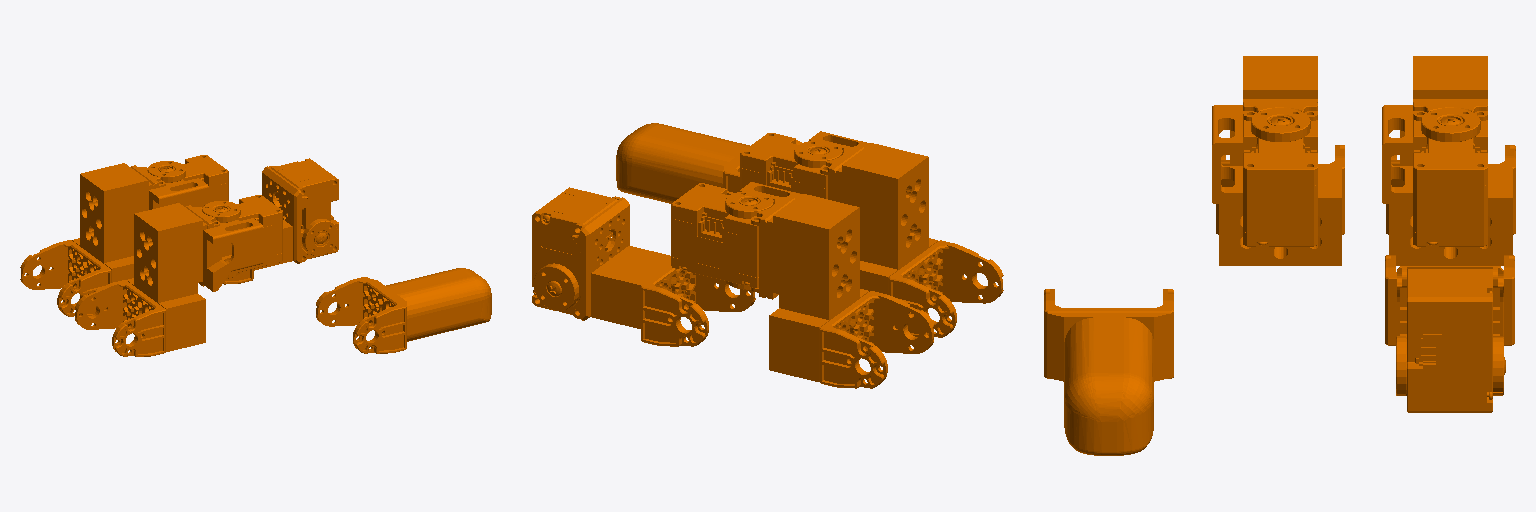
URDF robot description (onshape):
<robot name="onshape">
  <link name="palm_lower">
    <inertial>
      <origin xyz="0.0 0.0 0.0" rpy="0.0 -0.0 0.0"/>
      <mass value="0.237"/>
      <inertia ixx="0.000354094" ixy="-1.193e-06" ixz="-2.445e-06" iyy="0.000260915" iyz="-2.905e-06" izz="0.000529257"/>
    </inertial>
    <visual>
      <geometry>
        <mesh filename="../assets/leap/leap_hand/palm_lower.stl"/>
      </geometry>
      <origin xyz="-0.020095249652862544 0.025757756134899473 -0.034722403578460216" rpy="0.0 -0.0 0.0"/>
      <material name="palm_lower_material">
        <color rgba="0.6039215686274509 0.14901960784313725 0.14901960784313725 1.0"/>
      </material>
    </visual>
    <collision>
      <geometry>
        <mesh filename="../assets/leap/leap_hand/palm_lower.stl"/>
      </geometry>
      <origin xyz="-0.020095249652862544 0.025757756134899473 -0.034722403578460216" rpy="0.0 -0.0 0.0"/>
    </collision>
  </link>
  <link name="mcp_joint_long">
    <inertial>
      <origin xyz="0.0 0.0 0.0" rpy="0.0 -0.0 0.0"/>
      <mass value="0.044"/>
      <inertia ixx="1.1499e-05" ixy="3.049e-06" ixz="1.21e-07" iyy="7.796e-06" iyz="1.12e-07" izz="1.4759e-05"/>
    </inertial>
    <visual>
      <geometry>
        <mesh filename="custom_models/mcp_joint_long.stl"/>
      </geometry>
      <origin xyz="0.008406902261174496 0.0077662438597169954 0.014657354985032912" rpy="1.6375789613221e-15 -1.021047330249102e-30 1.7177968783327987e-31"/>
      <material name="mcp_joint_material">
        <color rgba="0.878 0.467 0.0 1.0"/>
      </material>
    </visual>
    <collision>
      <geometry>
        <mesh filename="custom_models/mcp_joint_long.stl"/>
      </geometry>
      <origin xyz="0.008406902261174496 0.0077662438597169954 0.014657354985032912" rpy="1.6375789613221e-15 -1.021047330249102e-30 1.7177968783327987e-31"/>
    </collision>
  </link>
  <link name="pip">
    <inertial>
      <origin xyz="0.0 0.0 0.0" rpy="0.0 -0.0 0.0"/>
      <mass value="0.032"/>
      <inertia ixx="4.798e-06" ixy="1.2e-08" ixz="4e-09" iyy="2.862e-06" iyz="1.1e-08" izz="4.234e-06"/>
    </inertial>
    <visual>
      <geometry>
        <mesh filename="../assets/leap/leap_hand/pip.stl"/>
      </geometry>
      <origin xyz="0.009643363092271328 0.0002999999999999895 0.0007840340104173765" rpy="-1.5707963267948966 -1.5707963267948963 0.0"/>
      <material name="pip_material">
        <color rgba="0.7490196078431373 0.7490196078431373 0.7490196078431373 1.0"/>
      </material>
    </visual>
    <collision>
      <geometry>
        <mesh filename="../assets/leap/leap_hand/pip.stl"/>
      </geometry>
      <origin xyz="0.009643363092271328 0.0002999999999999895 0.0007840340104173765" rpy="-1.5707963267948966 -1.5707963267948963 0.0"/>
    </collision>
  </link>
  <link name="dip_long">
    <inertial>
      <origin xyz="0.0 0.0 0.0" rpy="0.0 -0.0 0.0"/>
      <mass value="0.037"/>
      <inertia ixx="5.542e-06" ixy="-6.07e-07" ixz="-1.7e-08" iyy="5.727e-06" iyz="-2.3e-08" izz="6.682e-06"/>
    </inertial>
    <visual>
      <geometry>
        <mesh filename="custom_models/dip_long.stl"/>
      </geometry>
      <origin xyz="0.021133352895225003 -0.00843211914670488 0.00978508816209524" rpy="-3.141592653589793 4.507511124216441e-32 4.439548105392361e-32"/>
      <material name="dip_material">
        <color rgba="0.878 0.467 0.0 1.0"/>
      </material>
    </visual>
    <collision>
      <geometry>
        <mesh filename="custom_models/dip_long.stl"/>
      </geometry>
      <origin xyz="0.021133352895225003 -0.00843211914670488 0.00978508816209524" rpy="-3.141592653589793 4.507511124216441e-32 4.439548105392361e-32"/>
    </collision>
  </link>
  <link name="fingertip">
    <inertial>
      <origin xyz="0.0 0.0 0.0" rpy="0.0 -0.0 0.0"/>
      <mass value="0.016"/>
      <inertia ixx="3.368e-06" ixy="1.15e-07" ixz="0.0" iyy="1.556e-06" iyz="0.0" izz="2.863e-06"/>
    </inertial>
    <visual>
      <geometry>
        <mesh filename="../assets/leap/leap_hand/fingertip.stl"/>
      </geometry>
      <origin xyz="0.013286424108533503 -0.006114238386541987 0.014499999999999498" rpy="3.141592653589793 1.1993117970061735e-33 4.439548105392361e-32"/>
      <material name="fingertip_material">
        <color rgba="0.8666666666666667 0.8666666666666667 0.050980392156862744 1.0"/>
      </material>
    </visual>
    <collision>
      <geometry>
        <mesh filename="../assets/leap/leap_hand/fingertip.stl"/>
      </geometry>
      <origin xyz="0.013286424108533503 -0.006114238386541987 0.014499999999999498" rpy="3.141592653589793 1.1993117970061735e-33 4.439548105392361e-32"/>
    </collision>
  </link>
  <link name="pip_4">
    <inertial>
      <origin xyz="0.0 0.0 0.0" rpy="0.0 -0.0 0.0"/>
      <mass value="0.032"/>
      <inertia ixx="4.798e-06" ixy="1.2e-08" ixz="4e-09" iyy="2.862e-06" iyz="1.1e-08" izz="4.234e-06"/>
    </inertial>
    <visual>
      <geometry>
        <mesh filename="../assets/leap/leap_hand/pip.stl"/>
      </geometry>
      <origin xyz="-0.005356636907728671 0.0002999999999999999 0.0007840340104173782" rpy="-1.5707963267948966 -1.5707963267948963 0.0"/>
      <material name="pip_material">
        <color rgba="0.7490196078431373 0.7490196078431373 0.7490196078431373 1.0"/>
      </material>
    </visual>
    <collision>
      <geometry>
        <mesh filename="../assets/leap/leap_hand/pip.stl"/>
      </geometry>
      <origin xyz="-0.005356636907728671 0.0002999999999999999 0.0007840340104173782" rpy="-1.5707963267948966 -1.5707963267948963 0.0"/>
    </collision>
  </link>
  <link name="thumb_pip">
    <inertial>
      <origin xyz="0.0 0.0 0.0" rpy="0.0 -0.0 0.0"/>
      <mass value="0.003"/>
      <inertia ixx="5.93e-07" ixy="0.0" ixz="0.0" iyy="5.49e-07" iyz="0.0" izz="2.24e-07"/>
    </inertial>
    <visual>
      <geometry>
        <mesh filename="../assets/leap/leap_hand/thumb_pip.stl"/>
      </geometry>
      <origin xyz="0.011961920770611187 -5.30825383648903e-16 -0.0158526489566642" rpy="1.5707963267948966 1.6050198443300153e-46 -3.9204996250525193e-59"/>
      <material name="thumb_pip_material">
        <color rgba="0.8666666666666667 0.8666666666666667 0.050980392156862744 1.0"/>
      </material>
    </visual>
    <collision>
      <geometry>
        <mesh filename="../assets/leap/leap_hand/thumb_pip.stl"/>
      </geometry>
      <origin xyz="0.011961920770611187 -5.30825383648903e-16 -0.0158526489566642" rpy="1.5707963267948966 1.6050198443300153e-46 -3.9204996250525193e-59"/>
    </collision>
  </link>
  <link name="thumb_dip">
    <inertial>
      <origin xyz="0.0 0.0 0.0" rpy="0.0 -0.0 0.0"/>
      <mass value="0.038"/>
      <inertia ixx="8.474e-06" ixy="2.41e-07" ixz="2.6e-08" iyy="3.841e-06" iyz="2.5e-08" izz="7.679e-06"/>
    </inertial>
    <visual>
      <geometry>
        <mesh filename="../assets/leap/leap_hand/thumb_dip.stl"/>
      </geometry>
      <origin xyz="0.043968715707239175 0.0579529529737092 -0.008628676449369476" rpy="1.94289029309401e-16 3.27515792264422e-15 1.112375852965736e-46"/>
      <material name="thumb_dip_material">
        <color rgba="0.8666666666666667 0.8666666666666667 0.050980392156862744 1.0"/>
      </material>
    </visual>
    <collision>
      <geometry>
        <mesh filename="../assets/leap/leap_hand/thumb_dip.stl"/>
      </geometry>
      <origin xyz="0.043968715707239175 0.0579529529737092 -0.008628676449369476" rpy="1.94289029309401e-16 3.27515792264422e-15 1.112375852965736e-46"/>
    </collision>
  </link>
  <link name="thumb_fingertip">
    <inertial>
      <origin xyz="0.0 0.0 0.0" rpy="0.0 -0.0 0.0"/>
      <mass value="0.049"/>
      <inertia ixx="2.0372e-05" ixy="-4.89e-07" ixz="-3e-08" iyy="4.336e-06" iyz="-9.7e-08" izz="1.9845e-05"/>
    </inertial>
    <visual>
      <geometry>
        <mesh filename="../assets/leap/leap_hand/thumb_fingertip.stl"/>
      </geometry>
      <origin xyz="0.06255953846266739 0.07845968291139699 0.048992911807332215" rpy="4.379057701015637e-47 -3.33066907387547e-16 1.2042408677791935e-46"/>
      <material name="thumb_fingertip_material">
        <color rgba="0.6039215686274509 0.14901960784313725 0.14901960784313725 1.0"/>
      </material>
    </visual>
    <collision>
      <geometry>
        <mesh filename="../assets/leap/leap_hand/thumb_fingertip.stl"/>
      </geometry>
      <origin xyz="0.06255953846266739 0.07845968291139699 0.048992911807332215" rpy="4.379057701015637e-47 -3.33066907387547e-16 1.2042408677791935e-46"/>
    </collision>
  </link>
  <link name="mcp_joint_2_long">
    <inertial>
      <origin xyz="0.0 0.0 0.0" rpy="0.0 -0.0 0.0"/>
      <mass value="0.044"/>
      <inertia ixx="1.1499e-05" ixy="3.049e-06" ixz="1.21e-07" iyy="7.796e-06" iyz="1.12e-07" izz="1.4759e-05"/>
    </inertial>
    <visual>
      <geometry>
        <mesh filename="custom_models/mcp_joint_long.stl"/>
      </geometry>
      <origin xyz="0.008406902261174496 0.0077662438597169954 0.014657354985032914" rpy="1.6375789613221e-15 -1.0076465469034e-30 2.1209300131419907e-61"/>
      <material name="mcp_joint_material">
        <color rgba="0.878 0.467 0.0 1.0"/>
      </material>
    </visual>
    <collision>
      <geometry>
        <mesh filename="custom_models/mcp_joint_long.stl"/>
      </geometry>
      <origin xyz="0.008406902261174496 0.0077662438597169954 0.014657354985032914" rpy="1.6375789613221e-15 -1.0076465469034e-30 2.1209300131419907e-61"/>
    </collision>
  </link>
  <link name="pip_2">
    <inertial>
      <origin xyz="0.0 0.0 0.0" rpy="0.0 -0.0 0.0"/>
      <mass value="0.032"/>
      <inertia ixx="4.798e-06" ixy="1.2e-08" ixz="4e-09" iyy="2.862e-06" iyz="1.1e-08" izz="4.234e-06"/>
    </inertial>
    <visual>
      <geometry>
        <mesh filename="../assets/leap/leap_hand/pip.stl"/>
      </geometry>
      <origin xyz="0.009643363092271328 0.0002999999999999947 0.0007840340104173765" rpy="-1.5707963267948966 -1.5707963267948963 0.0"/>
      <material name="pip_material">
        <color rgba="0.7490196078431373 0.7490196078431373 0.7490196078431373 1.0"/>
      </material>
    </visual>
    <collision>
      <geometry>
        <mesh filename="../assets/leap/leap_hand/pip.stl"/>
      </geometry>
      <origin xyz="0.009643363092271328 0.0002999999999999947 0.0007840340104173765" rpy="-1.5707963267948966 -1.5707963267948963 0.0"/>
    </collision>
  </link>
  <link name="dip_2">
    <inertial>
      <origin xyz="0.0 0.0 0.0" rpy="0.0 -0.0 0.0"/>
      <mass value="0.037"/>
      <inertia ixx="5.542e-06" ixy="-6.07e-07" ixz="-1.7e-08" iyy="5.727e-06" iyz="-2.3e-08" izz="6.682e-06"/>
    </inertial>
    <visual>
      <geometry>
        <mesh filename="../assets/leap/leap_hand/dip.stl"/>
      </geometry>
      <origin xyz="0.021133352895225003 -0.008432119146704865 0.009785088162095237" rpy="-3.141592653589793 2.1146933785271956e-32 1.4408183216511869e-31"/>
      <material name="dip_material">
        <color rgba="0.8666666666666667 0.8666666666666667 0.050980392156862744 1.0"/>
      </material>
    </visual>
    <collision>
      <geometry>
        <mesh filename="../assets/leap/leap_hand/dip.stl"/>
      </geometry>
      <origin xyz="0.021133352895225003 -0.008432119146704865 0.009785088162095237" rpy="-3.141592653589793 2.1146933785271956e-32 1.4408183216511869e-31"/>
    </collision>
  </link>
  <link name="fingertip_2">
    <inertial>
      <origin xyz="0.0 0.0 0.0" rpy="0.0 -0.0 0.0"/>
      <mass value="0.016"/>
      <inertia ixx="3.368e-06" ixy="1.15e-07" ixz="0.0" iyy="1.556e-06" iyz="0.0" izz="2.863e-06"/>
    </inertial>
    <visual>
      <geometry>
        <mesh filename="../assets/leap/leap_hand/fingertip.stl"/>
      </geometry>
      <origin xyz="0.013286424108533496 -0.006114238386542001 0.014499999999999496" rpy="3.141592653589793 -4.317959788283594e-33 1.4408183216511869e-31"/>
      <material name="fingertip_material">
        <color rgba="0.8666666666666667 0.8666666666666667 0.050980392156862744 1.0"/>
      </material>
    </visual>
    <collision>
      <geometry>
        <mesh filename="../assets/leap/leap_hand/fingertip.stl"/>
      </geometry>
      <origin xyz="0.013286424108533496 -0.006114238386542001 0.014499999999999496" rpy="3.141592653589793 -4.317959788283594e-33 1.4408183216511869e-31"/>
    </collision>
  </link>
  <link name="mcp_joint_3">
    <inertial>
      <origin xyz="0.0 0.0 0.0" rpy="0.0 -0.0 0.0"/>
      <mass value="0.044"/>
      <inertia ixx="1.1499e-05" ixy="3.049e-06" ixz="1.21e-07" iyy="7.796e-06" iyz="1.12e-07" izz="1.4759e-05"/>
    </inertial>
    <visual>
      <geometry>
        <mesh filename="../assets/leap/leap_hand/mcp_joint.stl"/>
      </geometry>
      <origin xyz="0.0084069022611745 0.007766243859716996 0.014657354985032914" rpy="1.6375789613221e-15 -1.0059504988632627e-30 5.729641584552035e-32"/>
      <material name="mcp_joint_material">
        <color rgba="0.8666666666666667 0.8666666666666667 0.050980392156862744 1.0"/>
      </material>
    </visual>
    <collision>
      <geometry>
        <mesh filename="../assets/leap/leap_hand/mcp_joint.stl"/>
      </geometry>
      <origin xyz="0.0084069022611745 0.007766243859716996 0.014657354985032914" rpy="1.6375789613221e-15 -1.0059504988632627e-30 5.729641584552035e-32"/>
    </collision>
  </link>
  <link name="pip_3">
    <inertial>
      <origin xyz="0.0 0.0 0.0" rpy="0.0 -0.0 0.0"/>
      <mass value="0.032"/>
      <inertia ixx="4.798e-06" ixy="1.2e-08" ixz="4e-09" iyy="2.862e-06" iyz="1.1e-08" izz="4.234e-06"/>
    </inertial>
    <visual>
      <geometry>
        <mesh filename="../assets/leap/leap_hand/pip.stl"/>
      </geometry>
      <origin xyz="0.009643363092271331 0.00029999999999998084 0.0007840340104173765" rpy="-1.5707963267948966 -1.5707963267948963 0.0"/>
      <material name="pip_material">
        <color rgba="0.7490196078431373 0.7490196078431373 0.7490196078431373 1.0"/>
      </material>
    </visual>
    <collision>
      <geometry>
        <mesh filename="../assets/leap/leap_hand/pip.stl"/>
      </geometry>
      <origin xyz="0.009643363092271331 0.00029999999999998084 0.0007840340104173765" rpy="-1.5707963267948966 -1.5707963267948963 0.0"/>
    </collision>
  </link>
  <link name="dip_3">
    <inertial>
      <origin xyz="0.0 0.0 0.0" rpy="0.0 -0.0 0.0"/>
      <mass value="0.037"/>
      <inertia ixx="5.542e-06" ixy="-6.07e-07" ixz="-1.7e-08" iyy="5.727e-06" iyz="-2.3e-08" izz="6.682e-06"/>
    </inertial>
    <visual>
      <geometry>
        <mesh filename="../assets/leap/leap_hand/dip.stl"/>
      </geometry>
      <origin xyz="0.021133352895225006 -0.008432119146704865 0.009785088162095237" rpy="-3.141592653589793 -1.4095651113919093e-33 1.5565411607615035e-32"/>
      <material name="dip_material">
        <color rgba="0.8666666666666667 0.8666666666666667 0.050980392156862744 1.0"/>
      </material>
    </visual>
    <collision>
      <geometry>
        <mesh filename="../assets/leap/leap_hand/dip.stl"/>
      </geometry>
      <origin xyz="0.021133352895225006 -0.008432119146704865 0.009785088162095237" rpy="-3.141592653589793 -1.4095651113919093e-33 1.5565411607615035e-32"/>
    </collision>
  </link>
  <link name="fingertip_3_long">
    <inertial>
      <origin xyz="0.0 0.0 0.0" rpy="0.0 -0.0 0.0"/>
      <mass value="0.016"/>
      <inertia ixx="3.368e-06" ixy="1.15e-07" ixz="0.0" iyy="1.556e-06" iyz="0.0" izz="2.863e-06"/>
    </inertial>
    <visual>
      <geometry>
        <mesh filename="custom_models/fingertip_long.stl"/>
      </geometry>
      <origin xyz="0.013286424108533501 -0.006114238386541987 0.0144999999999995" rpy="3.141592653589793 8.61707169505754e-33 1.5565411607615035e-32"/>
      <material name="fingertip_material">
        <color rgba="0.878 0.467 0.0 1.0"/>
      </material>
    </visual>
    <collision>
      <geometry>
        <mesh filename="custom_models/fingertip_long.stl"/>
      </geometry>
      <origin xyz="0.013286424108533501 -0.006114238386541987 0.0144999999999995" rpy="3.141592653589793 8.61707169505754e-33 1.5565411607615035e-32"/>
    </collision>
  </link>
  <joint name="1" type="revolute">
    <parent link="palm_lower"/>
    <child link="mcp_joint_long"/>
    <origin xyz="-0.007095249652862546 0.023057756134899472 -0.01872240357846022" rpy="1.570796326794895 1.5707963267948946 0.0"/>
    <axis xyz="0.0 0.0 -1.0"/>
    <limit effort="0.95" velocity="8.48" lower="-0.314" upper="2.23"/>
  </joint>
  <joint name="0" type="revolute">
    <parent link="mcp_joint_long"/>
    <child link="pip"/>
    <origin xyz="-0.012200000000000007713 0.053099999999999994982 0.014500000000000000736" rpy="-1.5707963267948966 -1.0065212660796337e-15 1.5707963267948943"/>
    <axis xyz="0.0 0.0 -1.0"/>
    <limit effort="0.95" velocity="8.48" lower="-1.047" upper="1.047"/>
  </joint>
  <joint name="2" type="revolute">
    <parent link="pip"/>
    <child link="dip_long"/>
    <origin xyz="0.014999999999999968 0.014299999999999905 -0.012999999999999824" rpy="1.570796326794896 -1.5707963267948963 0.0"/>
    <axis xyz="0.0 0.0 -1.0"/>
    <limit effort="0.95" velocity="8.48" lower="-0.506" upper="1.885"/>
  </joint>
  <joint name="3" type="revolute">
    <parent link="dip_long"/>
    <child link="fingertip"/>
    <origin xyz="-4.0880582495572692636e-09 -0.051100004210367367397 0.00020000000000007858714" rpy="4.5935029425113685e-17 -2.8730071914463795e-16 4.439548105392361e-32"/>
    <axis xyz="0.0 0.0 -1.0"/>
    <limit effort="0.95" velocity="8.48" lower="-0.366" upper="2.042"/>
  </joint>
  <joint name="12" type="revolute">
    <parent link="palm_lower"/>
    <child link="pip_4"/>
    <origin xyz="-0.06939524965286253 -0.0012422438651005258 -0.021622403578460216" rpy="-8.238176646493942e-17 1.5707963267948957 0.0"/>
    <axis xyz="0.0 0.0 -1.0"/>
    <limit effort="0.95" velocity="8.48" lower="-0.349" upper="2.094"/>
  </joint>
  <joint name="13" type="revolute">
    <parent link="pip_4"/>
    <child link="thumb_pip"/>
    <origin xyz="-2.7755575615628914e-17 0.014300000000000005 -0.013000000000000012" rpy="1.570796326794896 -1.5707963267948963 0.0"/>
    <axis xyz="0.0 0.0 -1.0"/>
    <limit effort="0.95" velocity="8.48" lower="-0.47" upper="2.443"/>
  </joint>
  <joint name="14" type="revolute">
    <parent link="thumb_pip"/>
    <child link="thumb_dip"/>
    <origin xyz="0.0 0.014499999999999966 -0.017000000000000053" rpy="-1.5707963267948966 1.6050198443300131e-46 -1.9721522630516625e-31"/>
    <axis xyz="0.0 0.0 -1.0"/>
    <limit effort="0.95" velocity="8.48" lower="-1.2" upper="1.9"/>
  </joint>
  <joint name="15" type="revolute">
    <parent link="thumb_dip"/>
    <child link="thumb_fingertip"/>
    <origin xyz="-1.249000902703301e-16 0.046599999999999864 0.0001999999999999771" rpy="1.506395849149178e-44 5.423418723393526e-31 3.141592653589793"/>
    <axis xyz="0.0 0.0 -1.0"/>
    <limit effort="0.95" velocity="8.48" lower="-1.34" upper="1.88"/>
  </joint>
  <joint name="5" type="revolute">
    <parent link="palm_lower"/>
    <child link="mcp_joint_2_long"/>
    <origin xyz="-0.007095249652862546 -0.022392243865100525 -0.01872240357846022" rpy="1.570796326794895 1.5707963267948946 0.0"/>
    <axis xyz="0.0 0.0 -1.0"/>
    <limit effort="0.95" velocity="8.48" lower="-0.314" upper="2.23"/>
  </joint>
  <joint name="4" type="revolute">
    <parent link="mcp_joint_2_long"/>
    <child link="pip_2"/>
    <origin xyz="-0.012200000000000007713 0.053099999999999994982 0.014500000000000000736" rpy="-1.5707963267948966 -1.0065212660796337e-15 1.5707963267948943"/>
    <axis xyz="0.0 0.0 -1.0"/>
    <limit effort="0.95" velocity="8.48" lower="-1.047" upper="1.047"/>
  </joint>
  <joint name="6" type="revolute">
    <parent link="pip_2"/>
    <child link="dip_2"/>
    <origin xyz="0.014999999999999968 0.014299999999999905 -0.012999999999999824" rpy="1.570796326794896 -1.5707963267948963 0.0"/>
    <axis xyz="0.0 0.0 -1.0"/>
    <limit effort="0.95" velocity="8.48" lower="-0.506" upper="1.885"/>
  </joint>
  <joint name="7" type="revolute">
    <parent link="dip_2"/>
    <child link="fingertip_2"/>
    <origin xyz="-4.088058249557269e-09 -0.03610000421036737 0.0002000000000000786" rpy="4.5935029425113685e-17 -2.8730071914463795e-16 4.439548105392361e-32"/>
    <axis xyz="0.0 0.0 -1.0"/>
    <limit effort="0.95" velocity="8.48" lower="-0.366" upper="2.042"/>
  </joint>
  <joint name="9" type="revolute">
    <parent link="palm_lower"/>
    <child link="mcp_joint_3"/>
    <origin xyz="-0.007095249652862546 -0.06784224386510052 -0.01872240357846022" rpy="1.570796326794895 1.5707963267948946 0.0"/>
    <axis xyz="0.0 0.0 -1.0"/>
    <limit effort="0.95" velocity="8.48" lower="-0.314" upper="2.23"/>
  </joint>
  <joint name="8" type="revolute">
    <parent link="mcp_joint_3"/>
    <child link="pip_3"/>
    <origin xyz="-0.012200000000000008 0.038099999999999995 0.0145" rpy="-1.5707963267948966 -1.0065212660796337e-15 1.5707963267948943"/>
    <axis xyz="0.0 0.0 -1.0"/>
    <limit effort="0.95" velocity="8.48" lower="-1.047" upper="1.047"/>
  </joint>
  <joint name="10" type="revolute">
    <parent link="pip_3"/>
    <child link="dip_3"/>
    <origin xyz="0.014999999999999968 0.014299999999999905 -0.012999999999999824" rpy="1.570796326794896 -1.5707963267948963 0.0"/>
    <axis xyz="0.0 0.0 -1.0"/>
    <limit effort="0.95" velocity="8.48" lower="-0.506" upper="1.885"/>
  </joint>
  <joint name="11" type="revolute">
    <parent link="dip_3"/>
    <child link="fingertip_3_long"/>
    <origin xyz="-4.088058249557269e-09 -0.03610000421036737 0.0002000000000000786" rpy="4.5935029425113685e-17 -2.8730071914463795e-16 4.439548105392361e-32"/>
    <axis xyz="0.0 0.0 -1.0"/>
    <limit effort="0.95" velocity="8.48" lower="-0.366" upper="2.042"/>
  </joint>
</robot>

--- Render facts (derived) ---
The picture shows the robot from 3 angles, left to right: view 1: azimuth 30°, elevation 25°; view 2: azimuth 150°, elevation 25°; view 3: azimuth 270°, elevation 25°; orthographic projection.
Robot: onshape — 17 links, 16 joints (16 revolute); root link palm_lower; default pose: every joint at zero.
Links seen in each view (by area): view 1: mcp_joint_2_long, mcp_joint_long, fingertip_3_long, dip_long; view 2: mcp_joint_long, mcp_joint_2_long, dip_long, fingertip_3_long; view 3: mcp_joint_2_long, mcp_joint_long, dip_long, fingertip_3_long.
Boxes of the visible links, x1,y1,x2,y2 form: mcp_joint_2_long: (75,195,282,356); mcp_joint_long: (20,155,228,316); fingertip_3_long: (316,268,491,353); dip_long: (223,158,338,284); mcp_joint_long: (671,182,933,388); mcp_joint_2_long: (740,131,1003,337); dip_long: (532,187,755,346); fingertip_3_long: (616,123,801,203); mcp_joint_2_long: (1212,56,1344,265); mcp_joint_long: (1382,56,1515,265); dip_long: (1385,255,1514,412); fingertip_3_long: (1044,289,1173,455).
Size in the robot's own frame: 0.1616 by 0.1259 by 0.0549 metres.
Meshes: 11 distinct files referenced, 4 mesh visuals loaded (3 binary STL); not drawn: 13 (reference not matched to a file when rendering).